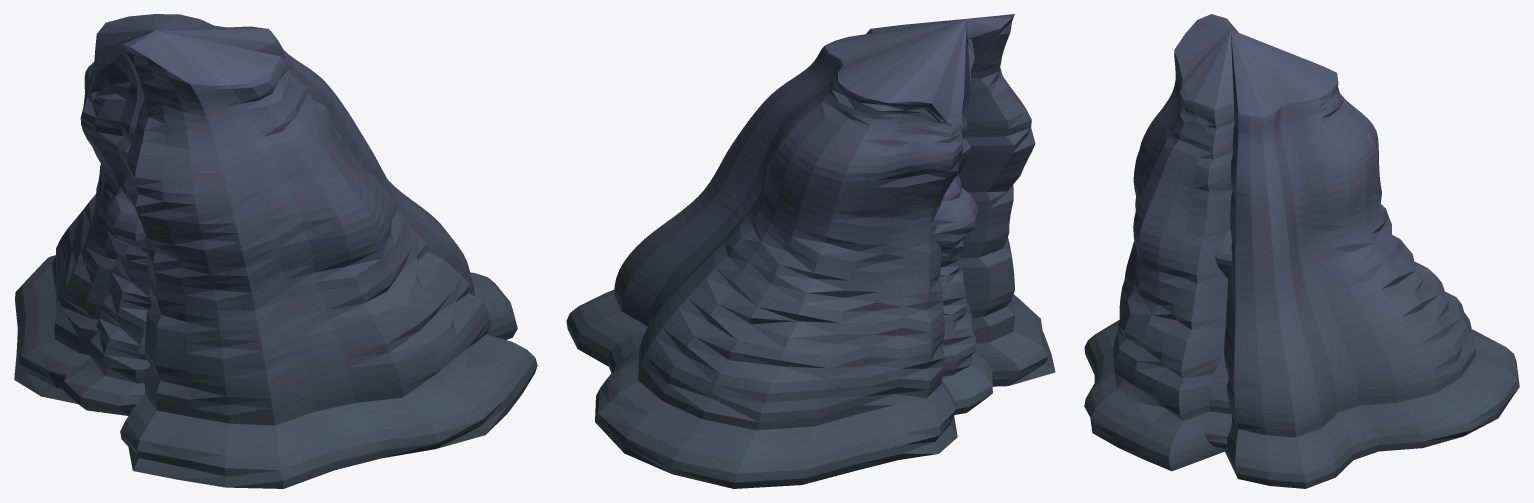
Rendered from SM_OverlookCrags.glb.
The picture shows the model from 3 angles, left to right: view 1: azimuth 30°, elevation 25°; view 2: azimuth 150°, elevation 25°; view 3: azimuth 270°, elevation 25°; orthographic projection. The views are drawn at different scales.
Visible parts, largest first — view 1: SM_Overlook_Crest, SM_Overlook_Spur; view 2: SM_Overlook_Crest, SM_Overlook_Spur; view 3: SM_Overlook_Crest, SM_Overlook_Spur.
Part boxes in pixels (box(x1,y1,x2,y2)): SM_Overlook_Crest: box(14, 14, 537, 488); SM_Overlook_Spur: box(62, 182, 153, 415); SM_Overlook_Crest: box(566, 14, 1055, 488); SM_Overlook_Spur: box(934, 174, 992, 414); SM_Overlook_Crest: box(1084, 14, 1519, 488); SM_Overlook_Spur: box(1204, 229, 1232, 448).
Bounding box in the file's own units: 9.1 × 7.75 × 9.78.
